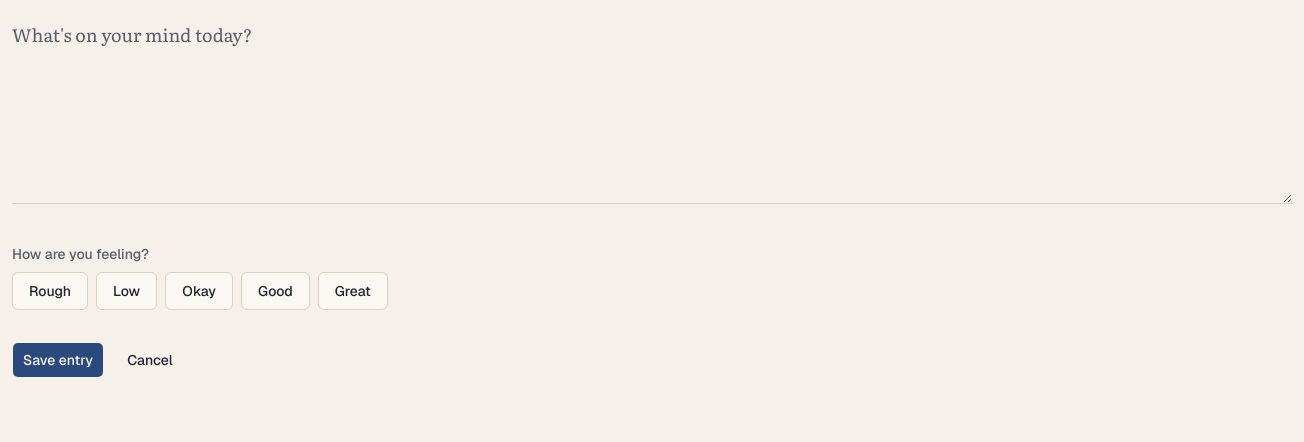
Test: EntryEditor › rejects empty text and a missing mood
The width and height of the screenshot is (1304, 442).
Click the button "Save entry". click: (58, 360)
box: x1=12 y1=342 x2=104 y2=378
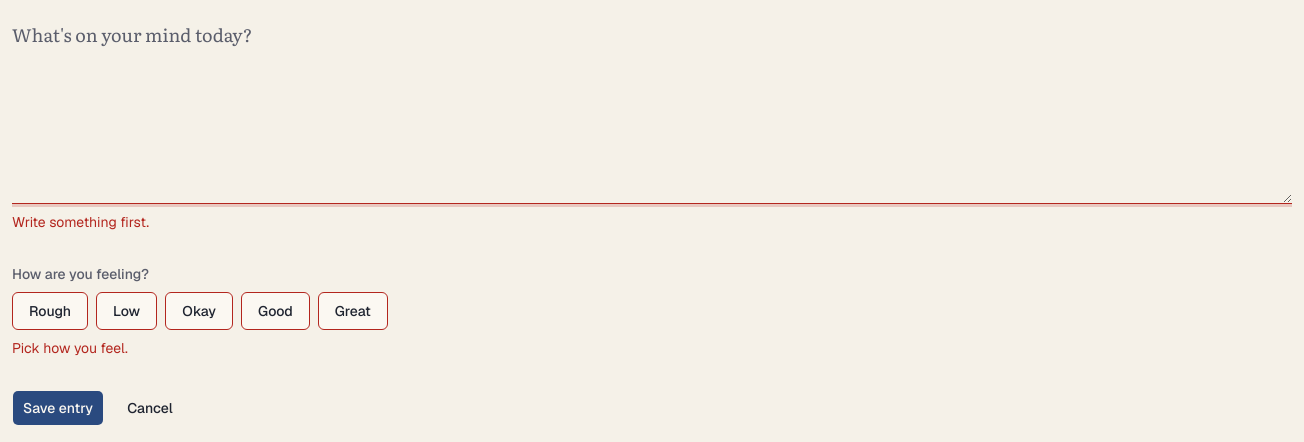
Now the text "Write something first." is shown, box x1=12 y1=212 x2=149 y2=232
Now the text "Pick how you feel." is shown, box x1=12 y1=339 x2=128 y2=357
